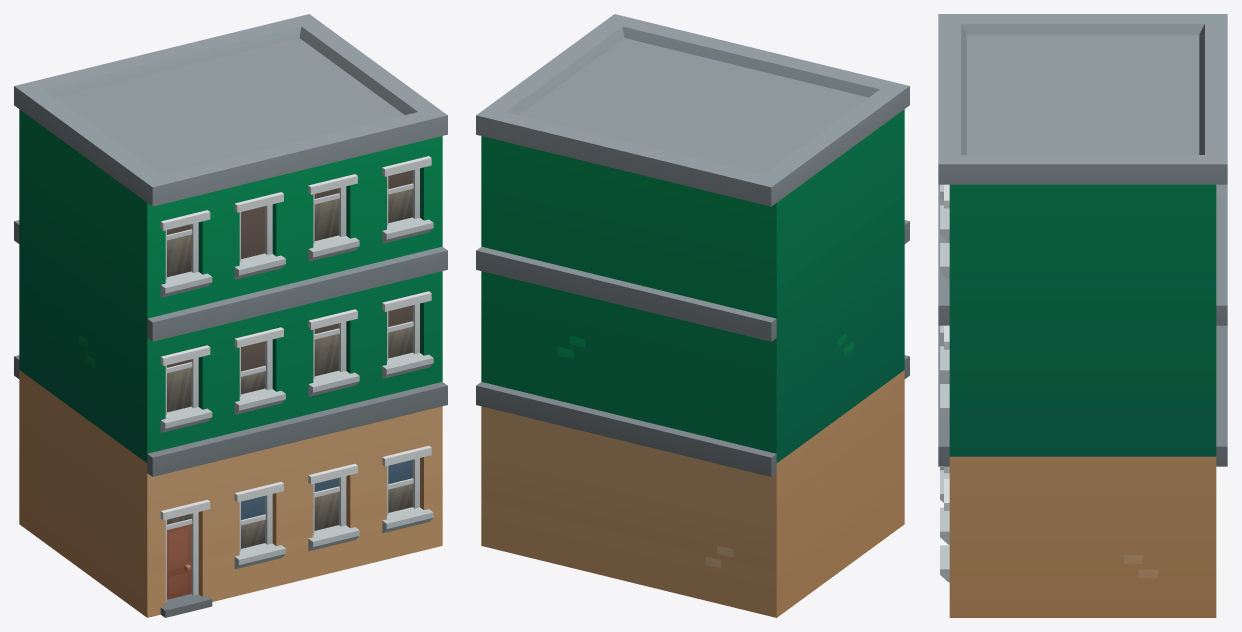
The model's file is building-office.glb.
3 views of the same model, side by side, from view 1: azimuth 30°, elevation 25°; view 2: azimuth 150°, elevation 25°; view 3: azimuth 270°, elevation 25° (orthographic). The views are drawn at different scales.
Parts seen in each view (by area): view 1: building_D_withoutBase; view 2: building_D_withoutBase; view 3: building_D_withoutBase.
Boxes of the visible parts, box(x1,y1,x2,y2) form: building_D_withoutBase: box(14, 14, 447, 617); building_D_withoutBase: box(476, 14, 909, 617); building_D_withoutBase: box(938, 14, 1227, 617).
Bounding box in the file's own units: 10.71 × 15 × 8.67.
Materials: 1 (1 with a texture image).
